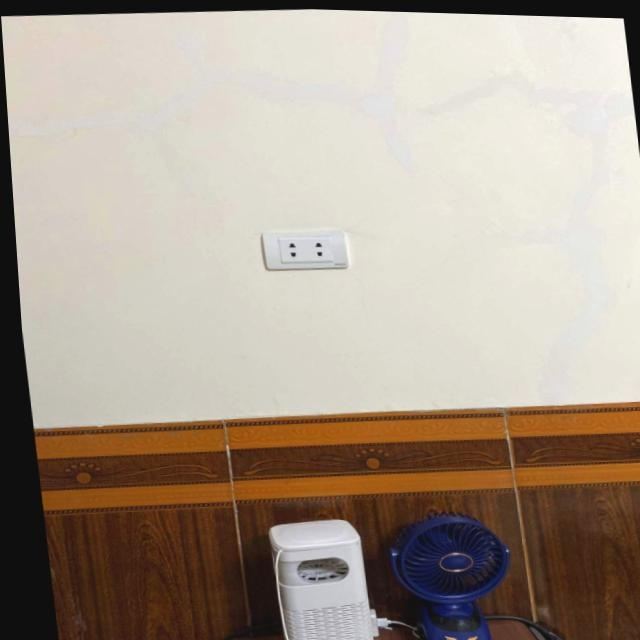outlet: (260, 227, 351, 273)
